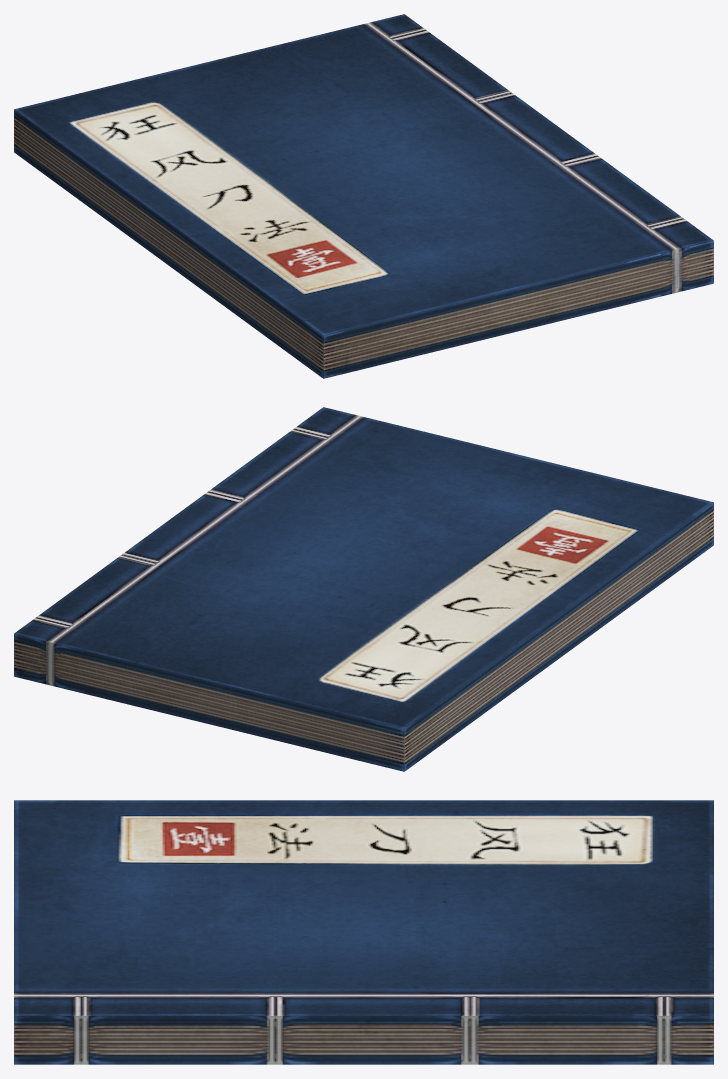
File: kuangfengdaofa.FBX
3 views of the same model, one above another, from view 1: azimuth 30°, elevation 25°; view 2: azimuth 150°, elevation 25°; view 3: azimuth 270°, elevation 25° (orthographic). The views are drawn at different scales.
Visible parts, largest first — view 1: kuangfengdaofa; view 2: kuangfengdaofa; view 3: kuangfengdaofa.
Boxes of the visible parts, x1,y1,x2,y2 form: kuangfengdaofa: [14, 14, 713, 378]; kuangfengdaofa: [14, 407, 713, 771]; kuangfengdaofa: [14, 800, 713, 1064].
Size of the model in its own units: 20.47 by 2.15 by 28.1.
Materials: 1 (1 with a texture image).
